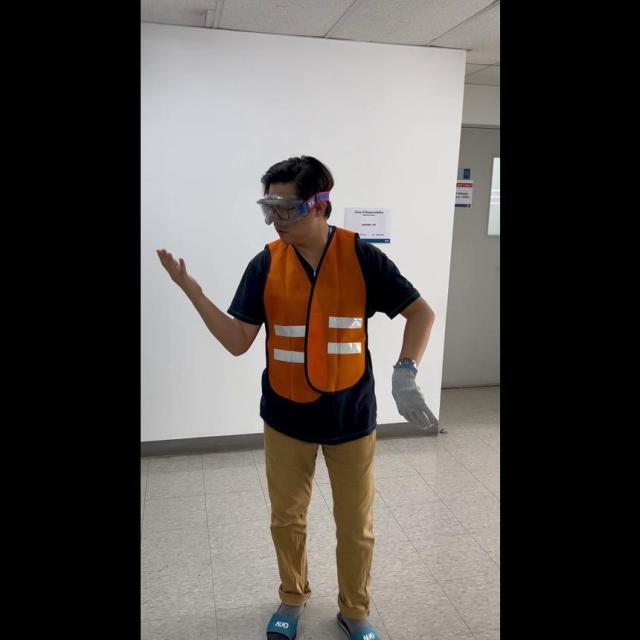bare_hand: (153, 241, 190, 292)
gloved_hand: (385, 359, 438, 431)
